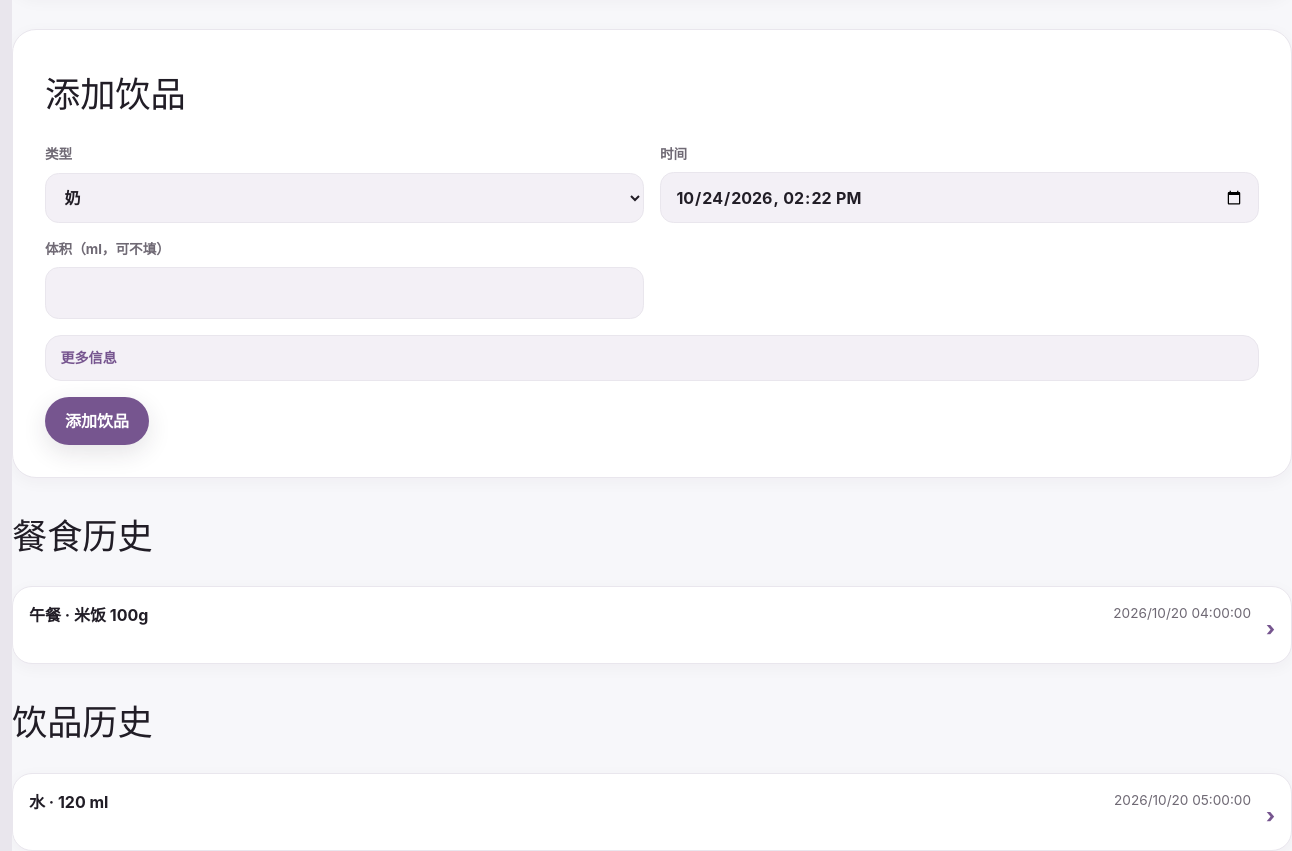
Scenario: nutrition history editing › uses the same expandable information-card pattern for meals and beverages
(page scrolled)
expect the heading "水 · 120 ml 2026/10/20 05:00:00" is shown: met, box [29,792,1251,812]
expect the heading "水 · 120 ml 2026/10/20 05:00:00" does not show "WATER": met, box [29,792,1251,812]
Click the heading "午餐 · 米饭 100g 2026/10/20 04:00:00": (45, 615) [29,605,1251,625]
(page scrolled)
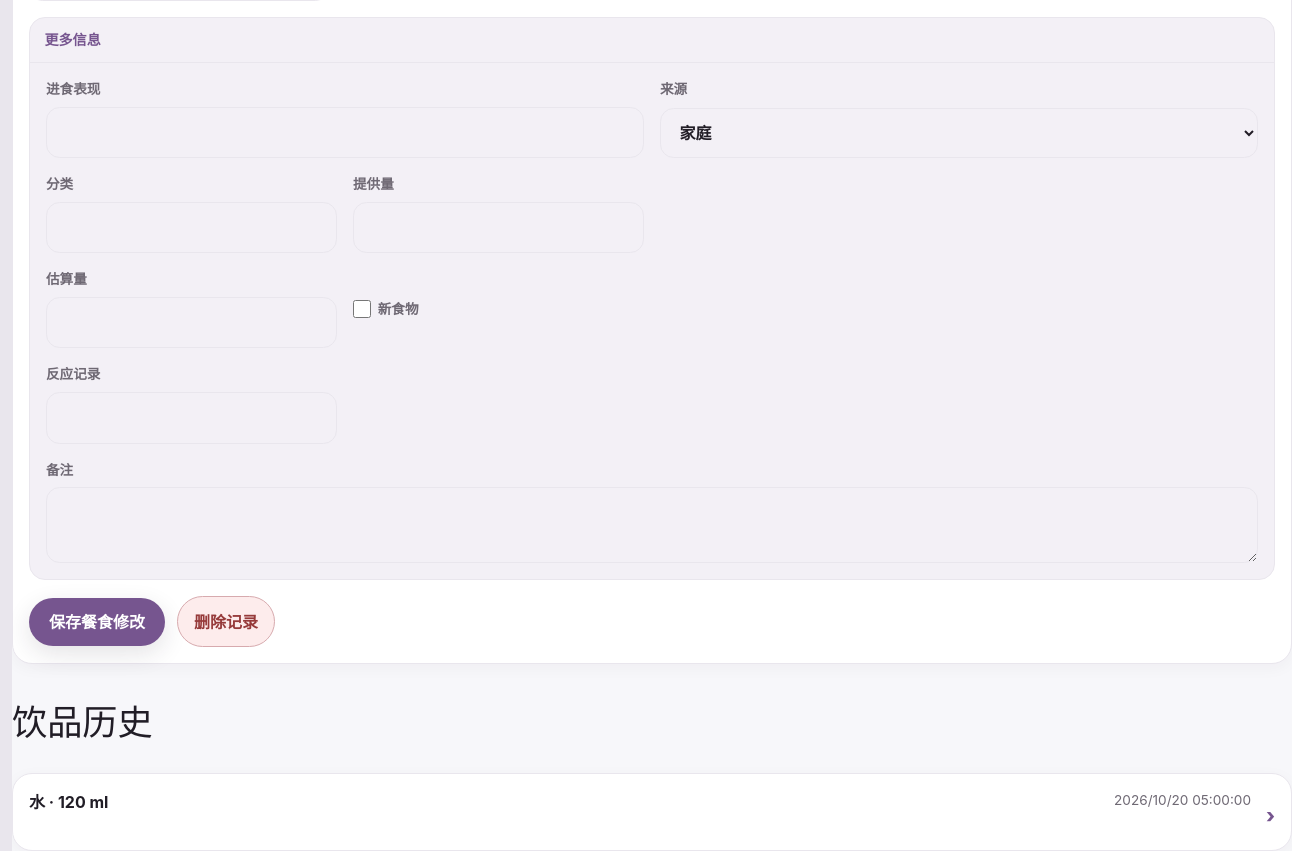
expect the button "保存餐食修改" is shown: met, box [29,598,165,646]
expect the button "删除记录" is shown: met, box [177,596,275,647]
